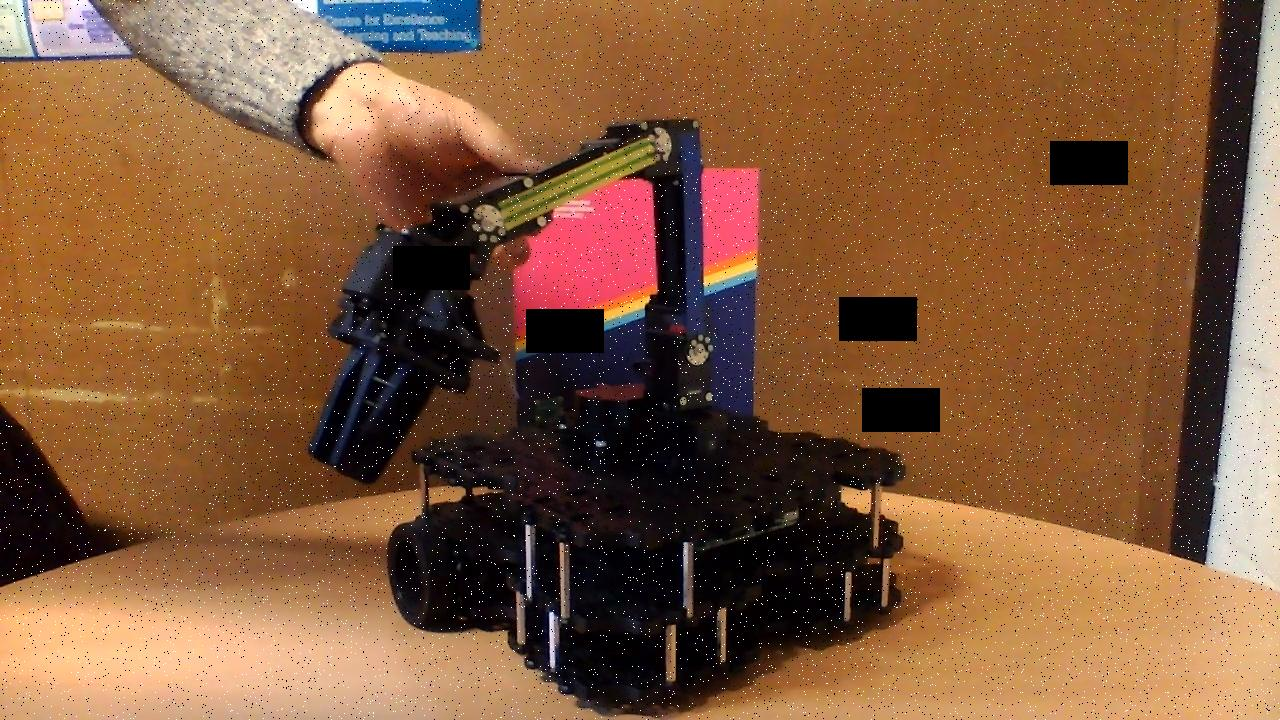Arm: (641, 112, 713, 369)
Hand: (299, 198, 508, 489)
Wrist: (466, 117, 674, 245)
base: (384, 380, 912, 718)
